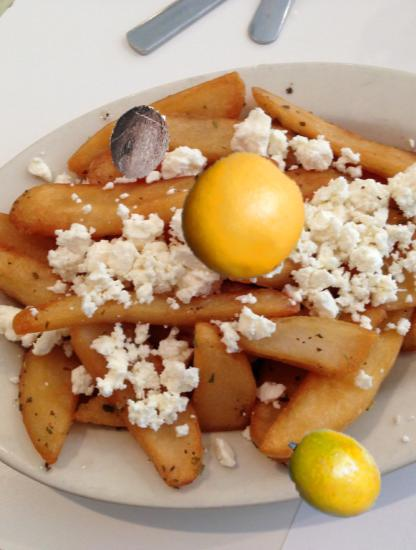Cocos: (102, 105, 178, 181)
Grapefruit: (180, 154, 307, 281)
Maracuja: (280, 421, 386, 527)
